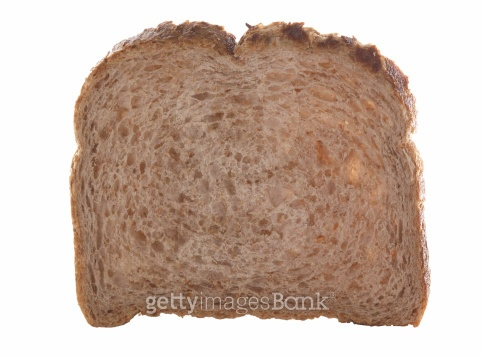slice of bread: (69, 20, 441, 328)
